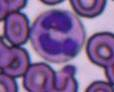N: (31, 9, 84, 61)
